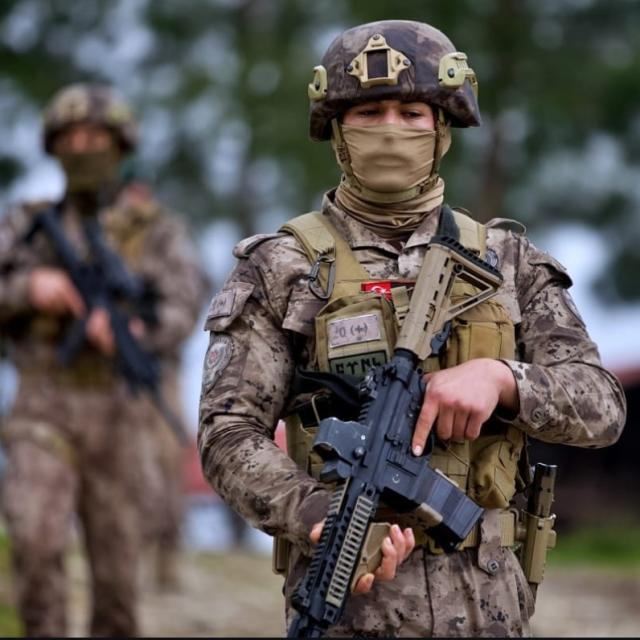poh_personel: (204, 18, 626, 640), (0, 84, 206, 640)
